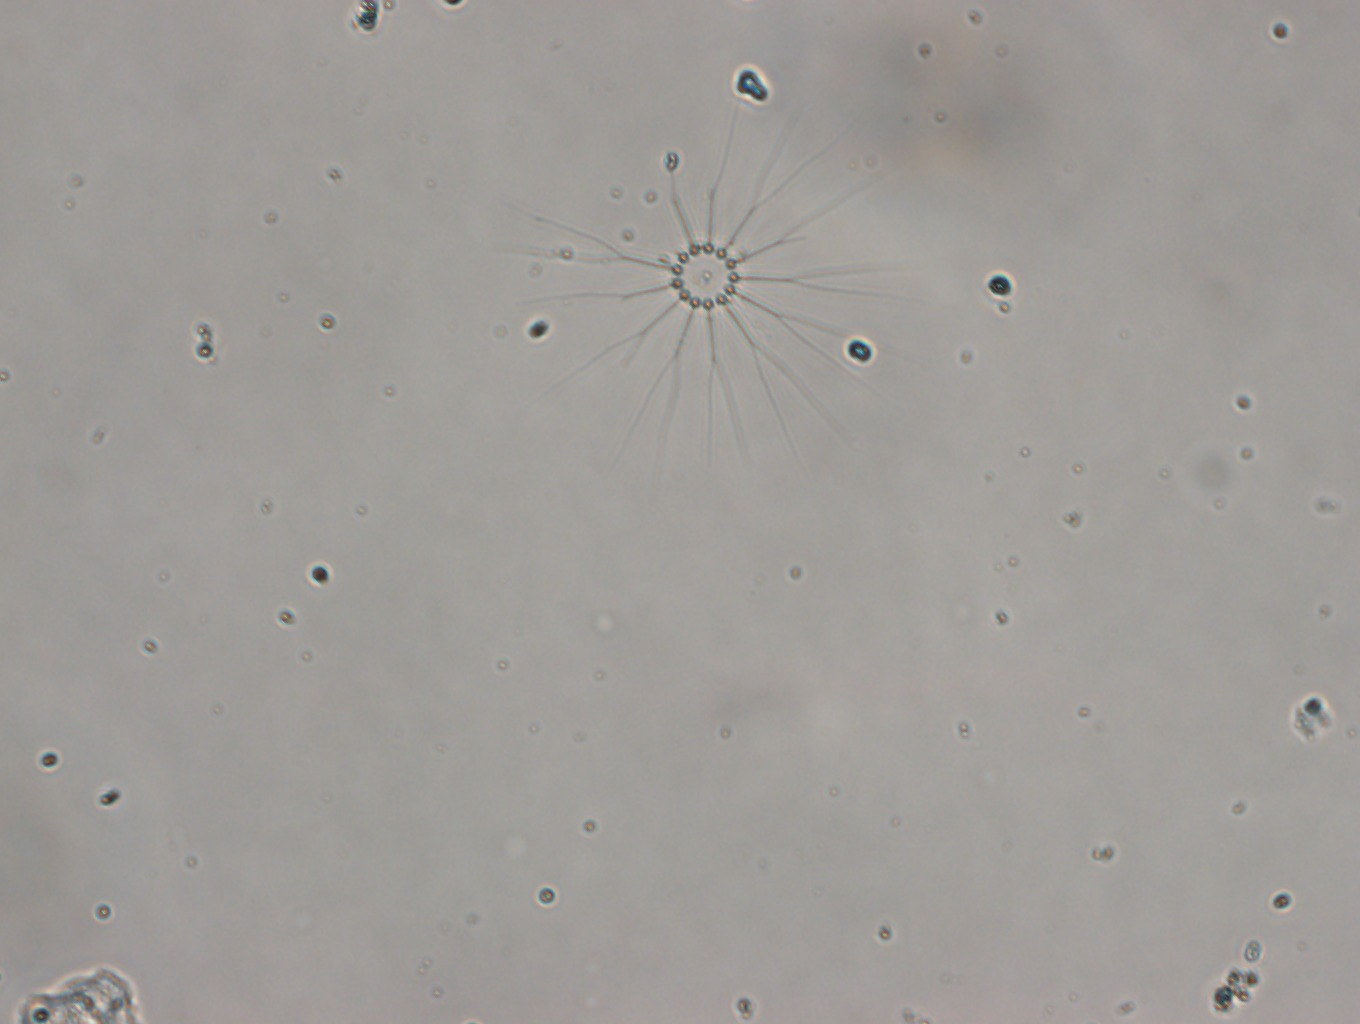bacteriastrum: (495, 91, 935, 502)
